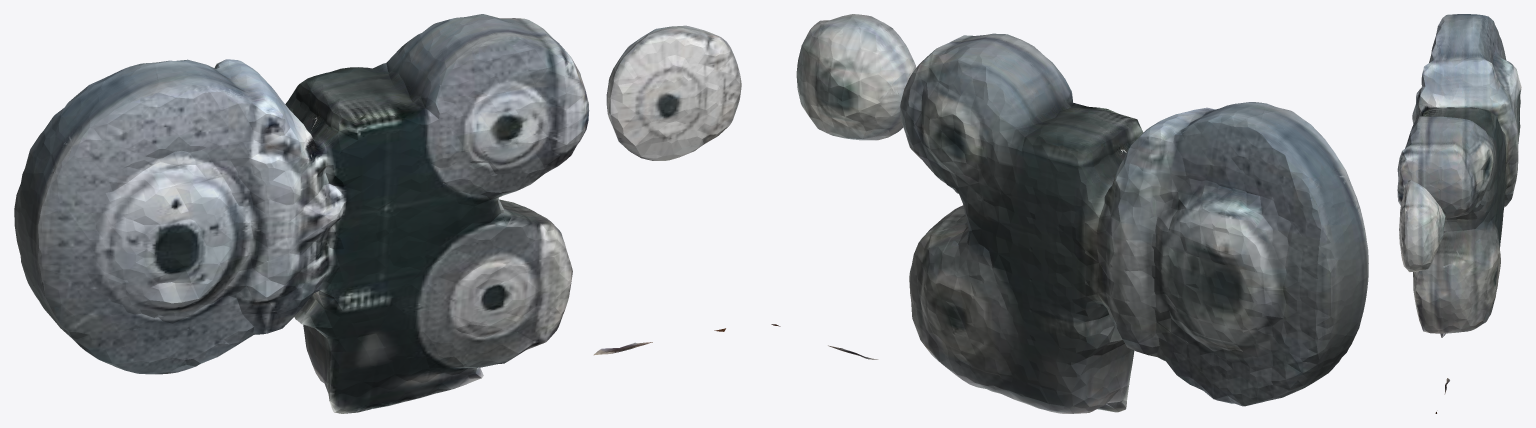
The model's file is brake_assembly.glb.
3 renders of one model, left to right at view 1: azimuth 30°, elevation 25°; view 2: azimuth 150°, elevation 25°; view 3: azimuth 270°, elevation 25°, orthographic. The views are drawn at different scales.
Visible parts, largest first — view 1: geometry_0; view 2: geometry_0; view 3: geometry_0.
Boxes of the visible parts, bbox=[...] form: geometry_0: bbox=[14, 14, 741, 413]; geometry_0: bbox=[771, 14, 1368, 413]; geometry_0: bbox=[1397, 14, 1521, 413].
Size of the model in its own units: 0.9313 by 0.5067 by 0.245.
1 material, 1 textured.
